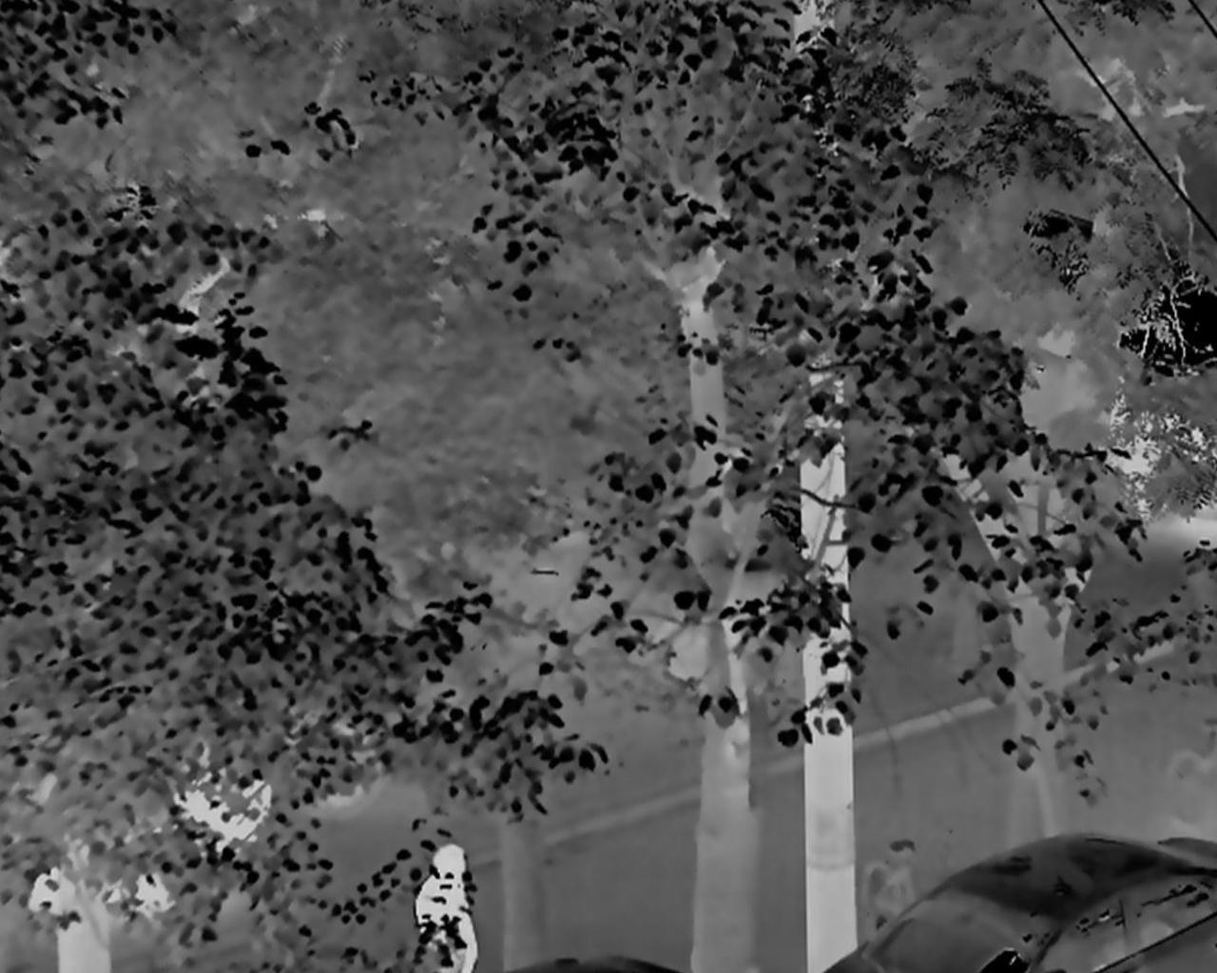person: (414, 845, 483, 973)
